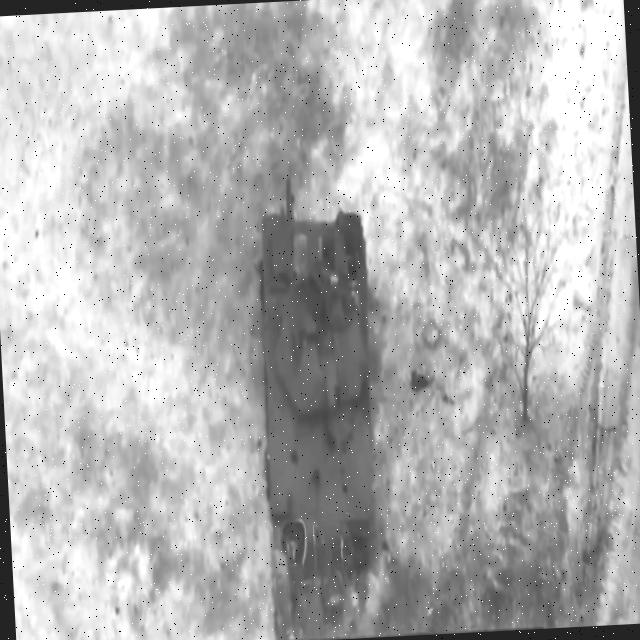AIFV: (253, 190, 386, 549)
